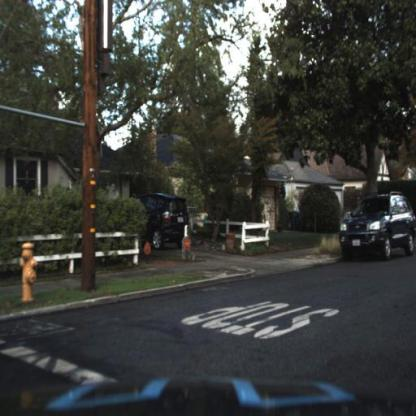car: (335, 190, 415, 260), (121, 191, 190, 256)
